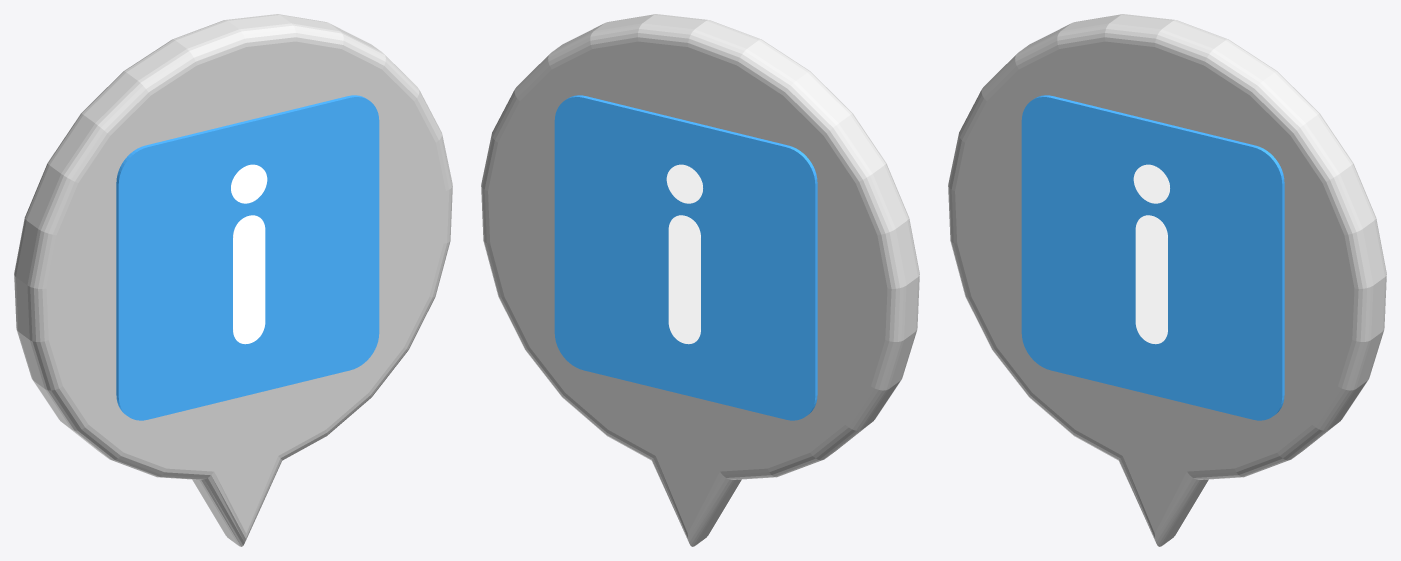
The model's file is information_source.glb.
3 renders of one model, left to right at view 1: azimuth 30°, elevation 25°; view 2: azimuth 150°, elevation 25°; view 3: azimuth 330°, elevation 25°, orthographic.
Visible parts, largest first — view 1: EmotionBubble; view 2: EmotionBubble; view 3: EmotionBubble.
Part boxes in pixels (<box>): EmotionBubble: <box>14,14,452,546</box>; EmotionBubble: <box>481,14,919,546</box>; EmotionBubble: <box>948,14,1386,546</box>.
Bounding box in the file's own units: 5.29 × 6.16 × 0.682.
